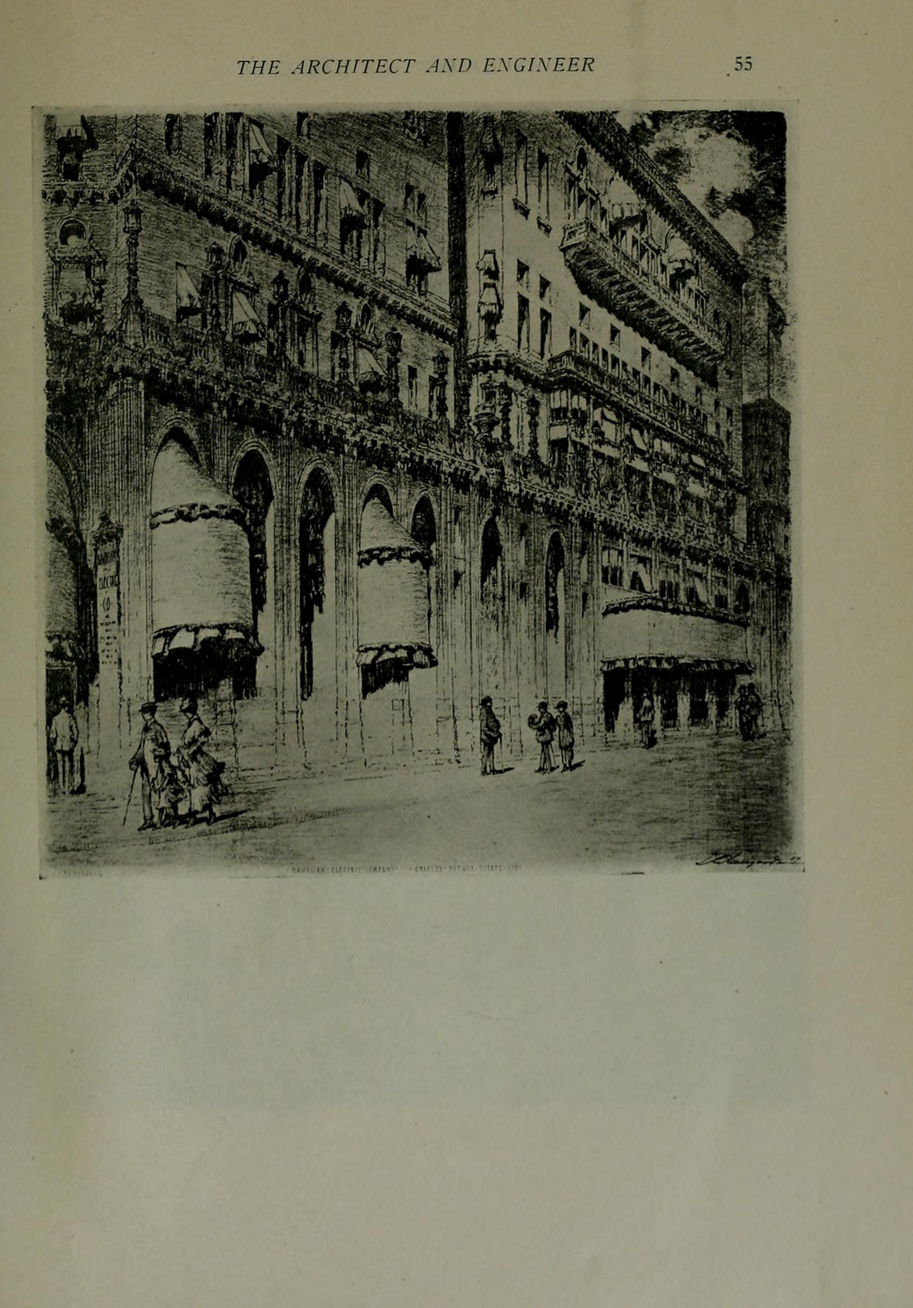fachada: (45, 123, 809, 834)
